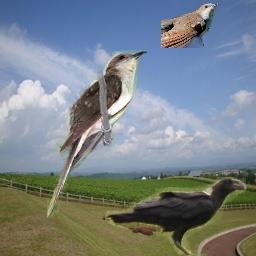Crow: (105, 177, 247, 256)
Cuckoo: (47, 50, 147, 218), (161, 3, 220, 48)
